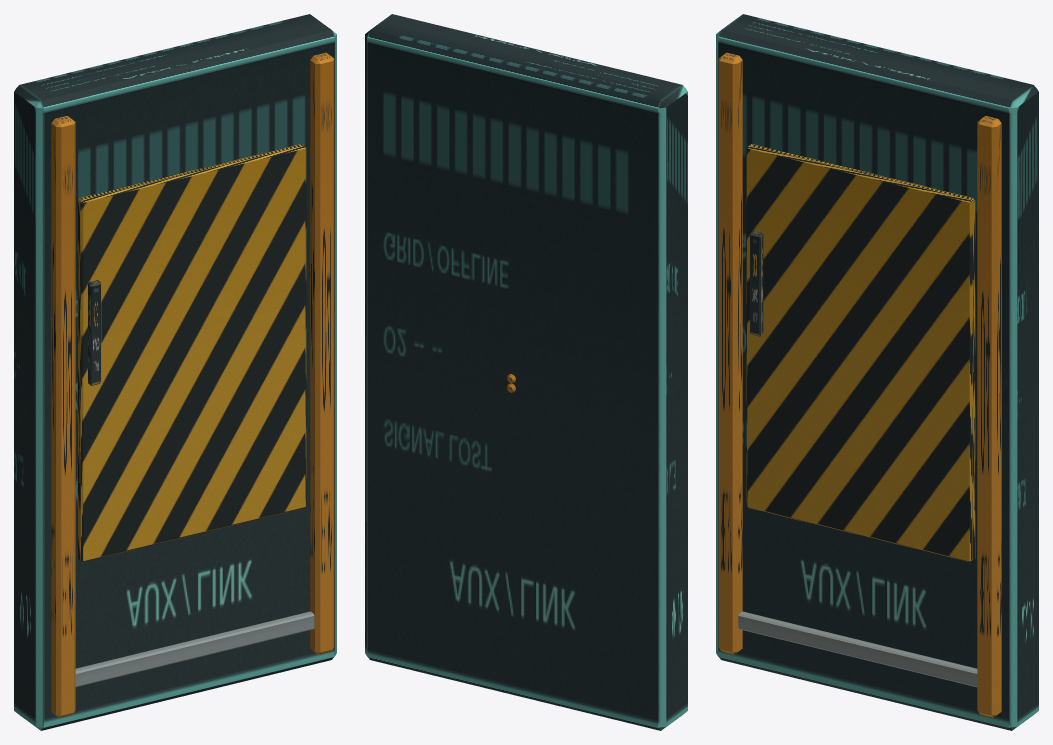
File: wall_solid_2m_LOD0.obj
The picture shows the model from 3 angles, left to right: view 1: azimuth 30°, elevation 25°; view 2: azimuth 150°, elevation 25°; view 3: azimuth 330°, elevation 25°; orthographic projection.
Parts seen in each view (by area): view 1: L02_wall_solid_2m_LOD0; view 2: L02_wall_solid_2m_LOD0; view 3: L02_wall_solid_2m_LOD0.
Boxes of the visible parts, x1,y1,x2,y2 form: L02_wall_solid_2m_LOD0: (14, 14, 336, 730); L02_wall_solid_2m_LOD0: (365, 14, 687, 730); L02_wall_solid_2m_LOD0: (716, 14, 1038, 730).
Bounding box in the file's own units: 2 × 4 × 0.437.
1 material, 1 textured.
